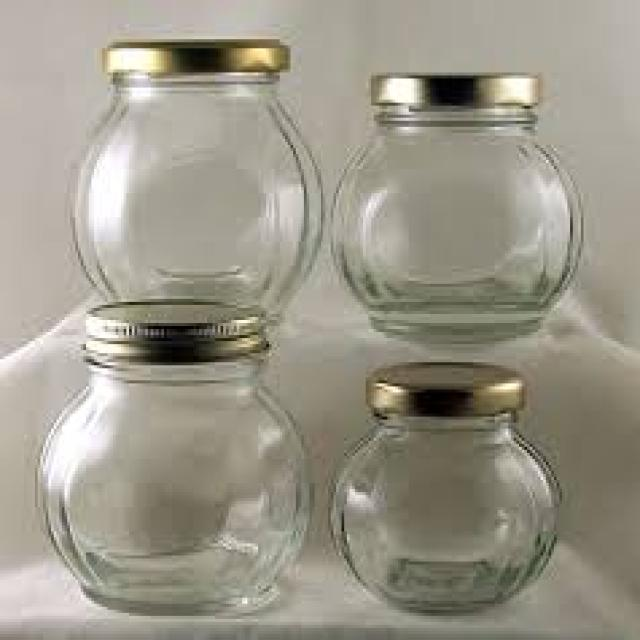glass: (33, 347, 310, 616), (65, 69, 320, 323), (328, 103, 581, 338), (328, 410, 559, 616)
metal: (81, 293, 264, 356), (360, 359, 522, 411), (368, 67, 538, 106), (97, 40, 285, 73)
